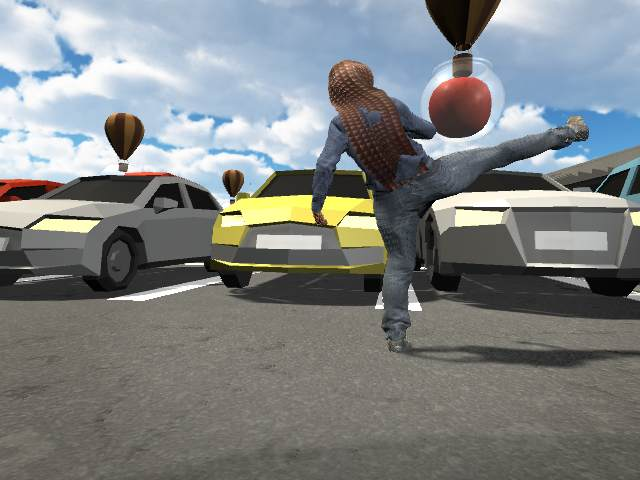turn_right: (308, 59, 592, 353)
